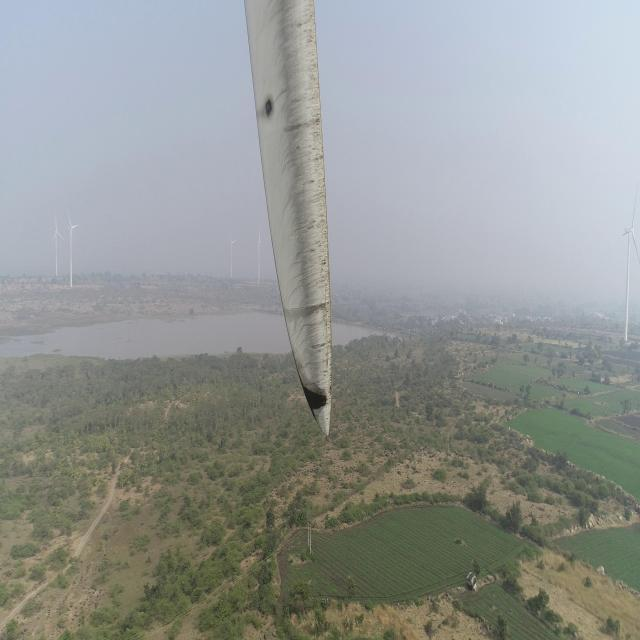Dirt: (271, 0, 332, 385)
Pin_Hole: (259, 97, 276, 117)
oil_leakage: (299, 379, 330, 421)
